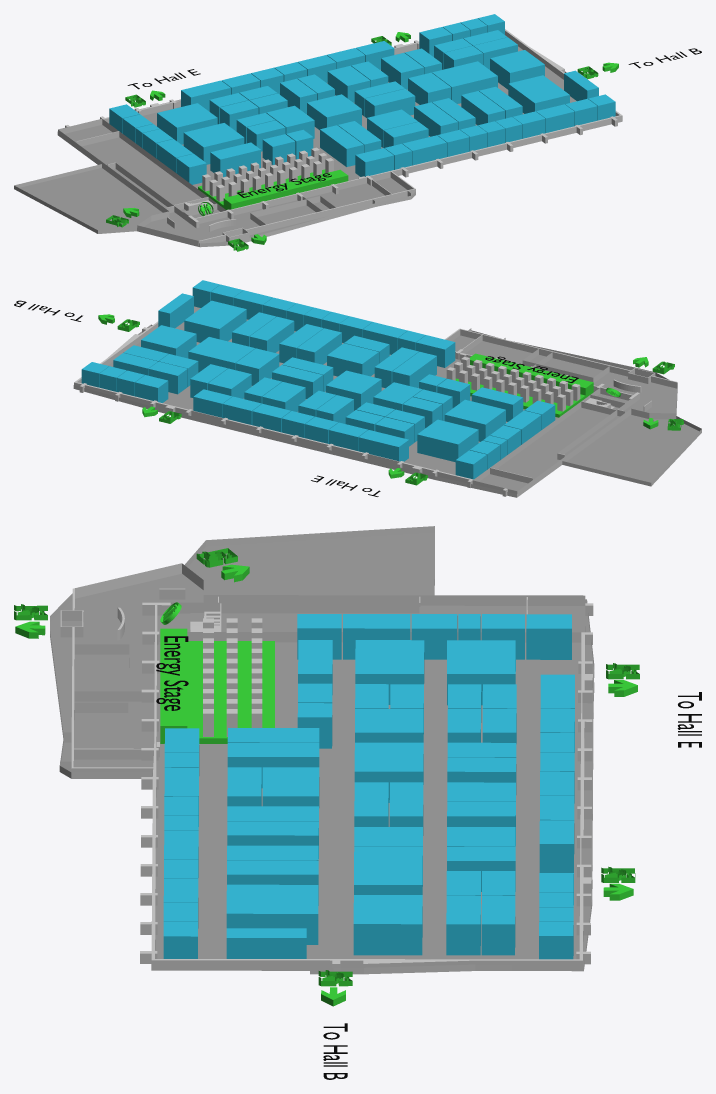
File: Hall_C.glb
3 renders of one model, top to bottom at view 1: azimuth 30°, elevation 25°; view 2: azimuth 150°, elevation 25°; view 3: azimuth 270°, elevation 25°, orthographic. The views are drawn at different scales.
Visible parts, largest first — view 1: Plane, Building_curve_, Background, Energy_Stage.001, BOOTHLAYER_curve_.049, BOOTHLAYER_curve_.050, BOOTHLAYER_curve_.019, BOOTHLAYER_curve_, BOOTHLAYER_curve_.035, BOOTHLAYER_curve_.051, Cube, BOOTHLAYER_curve_.039 (+55 smaller); view 2: Plane, Building_curve_, Background, BOOTHLAYER_curve_, BOOTHLAYER_curve_.049, Energy_Stage.001, BOOTHLAYER_curve_.019, BOOTHLAYER_curve_.050, BOOTHLAYER_curve_.035, BOOTHLAYER_curve_.046, Cube.002, BOOTHLAYER_curve_.051 (+57 smaller); view 3: Plane, Building_curve_, Energy_Stage.001, Background, BOOTHLAYER_curve_.049, BOOTHLAYER_curve_.051, BOOTHLAYER_curve_.050, BOOTHLAYER_curve_.019, BOOTHLAYER_curve_, BOOTHLAYER_curve_.035, BOOTHLAYER_curve_.061, BOOTHLAYER_curve_.045 (+52 smaller).
Boxes of the visible parts, box(x1,y1,x2,y2) form: Plane: box(19, 46, 576, 242); Building_curve_: box(58, 29, 622, 246); Background: box(14, 43, 622, 247); Energy_Stage.001: box(198, 169, 348, 209); BOOTHLAYER_curve_.049: box(508, 75, 569, 113); BOOTHLAYER_curve_.050: box(432, 61, 497, 103); BOOTHLAYER_curve_.019: box(183, 123, 244, 164); BOOTHLAYER_curve_: box(157, 103, 217, 144); BOOTHLAYER_curve_.035: box(307, 94, 361, 130); BOOTHLAYER_curve_.051: box(490, 50, 544, 89); Cube: box(216, 158, 333, 201); BOOTHLAYER_curve_.039: box(320, 125, 363, 166); Plane: box(108, 306, 699, 491); Building_curve_: box(74, 321, 677, 497); Background: box(73, 324, 701, 497); BOOTHLAYER_curve_: box(417, 419, 478, 462); BOOTHLAYER_curve_.049: box(184, 300, 246, 342); Energy_Stage.001: box(455, 353, 593, 417); BOOTHLAYER_curve_.019: box(444, 399, 505, 441); BOOTHLAYER_curve_.050: box(188, 337, 255, 372); BOOTHLAYER_curve_.035: box(326, 370, 381, 410); BOOTHLAYER_curve_.046: box(327, 343, 378, 376); Cube.002: box(446, 367, 565, 411); BOOTHLAYER_curve_.051: box(141, 325, 196, 358); Plane: box(50, 532, 594, 964); Building_curve_: box(60, 563, 593, 970); Energy_Stage.001: box(160, 628, 274, 743); Background: box(50, 526, 594, 974); BOOTHLAYER_curve_.049: box(226, 884, 318, 944); BOOTHLAYER_curve_.051: box(353, 895, 422, 955); BOOTHLAYER_curve_.050: box(354, 846, 422, 894); BOOTHLAYER_curve_.019: box(355, 640, 424, 704); BOOTHLAYER_curve_: box(447, 640, 515, 705); BOOTHLAYER_curve_.035: box(354, 742, 423, 802); BOOTHLAYER_curve_.061: box(226, 928, 306, 958); BOOTHLAYER_curve_.045: box(227, 743, 319, 788).
Bounding box in the file's own units: 37 × 1.06 × 19.65.
